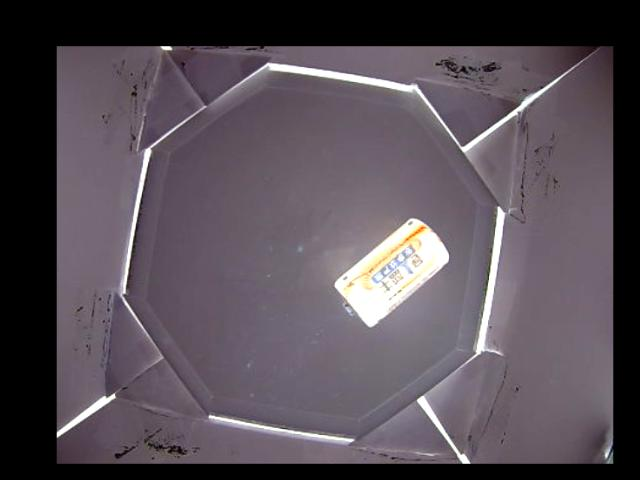Battery: (335, 215, 449, 328)
